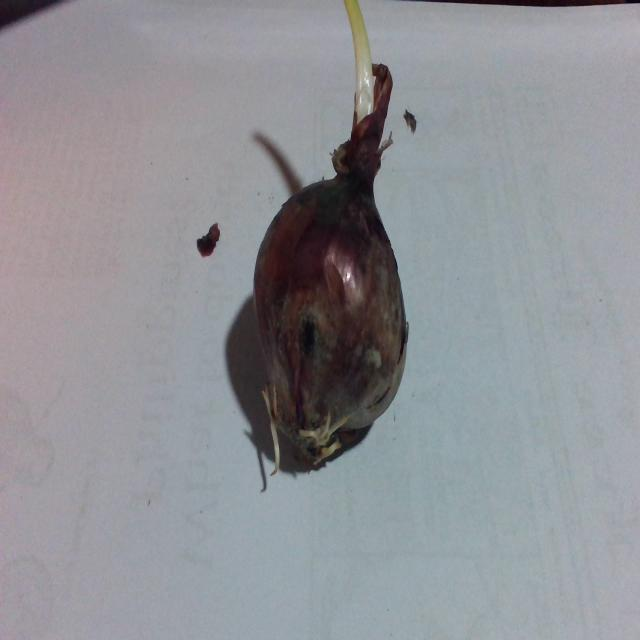onion: (220, 32, 459, 522)
